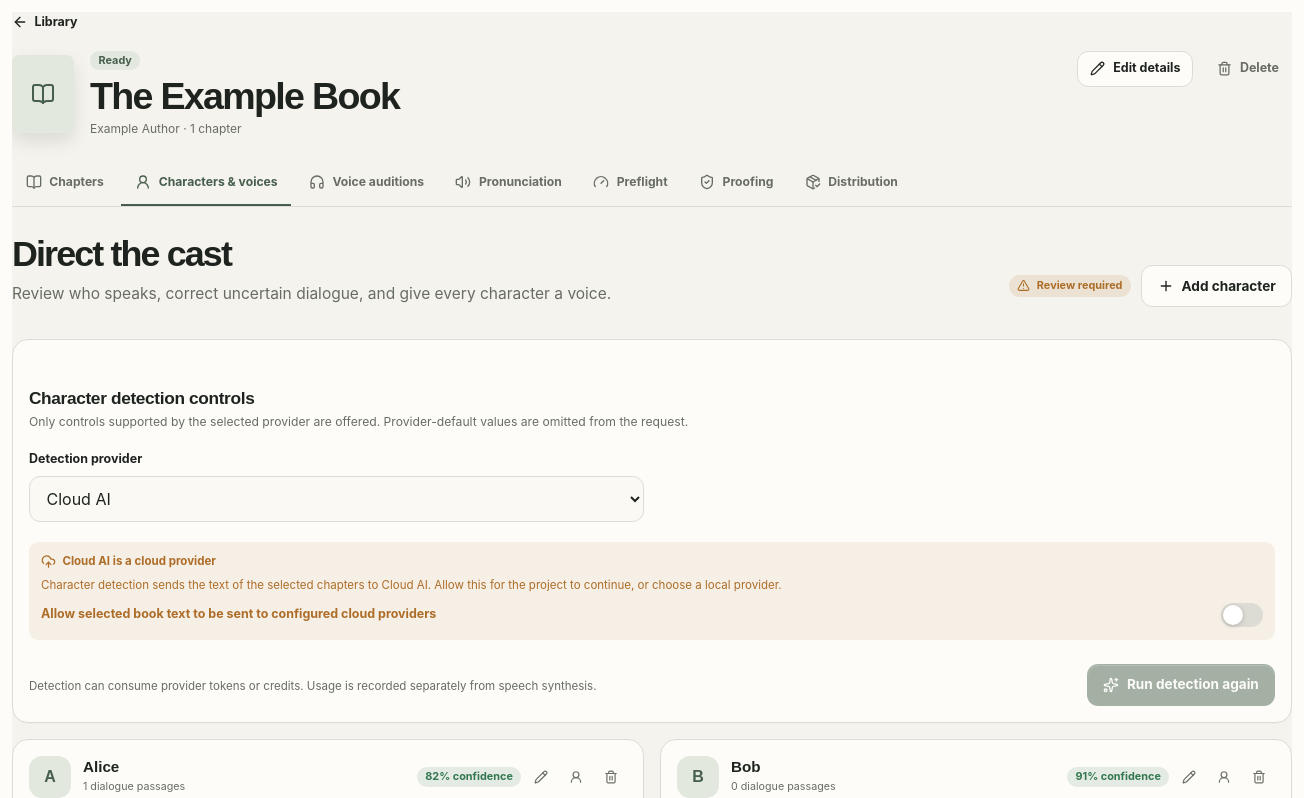
Test: character review › offers the missing cloud text permission where detection needs it
Expected: the text "Cloud AI is a cloud provider" is shown, x1=41 y1=554 x2=216 y2=568
Expected: the button "Run detection again" is disabled, x1=1087 y1=664 x2=1275 y2=706
Click the switch named "Allow selected book text".
click(1242, 615)  # box x1=1221 y1=603 x2=1263 y2=627
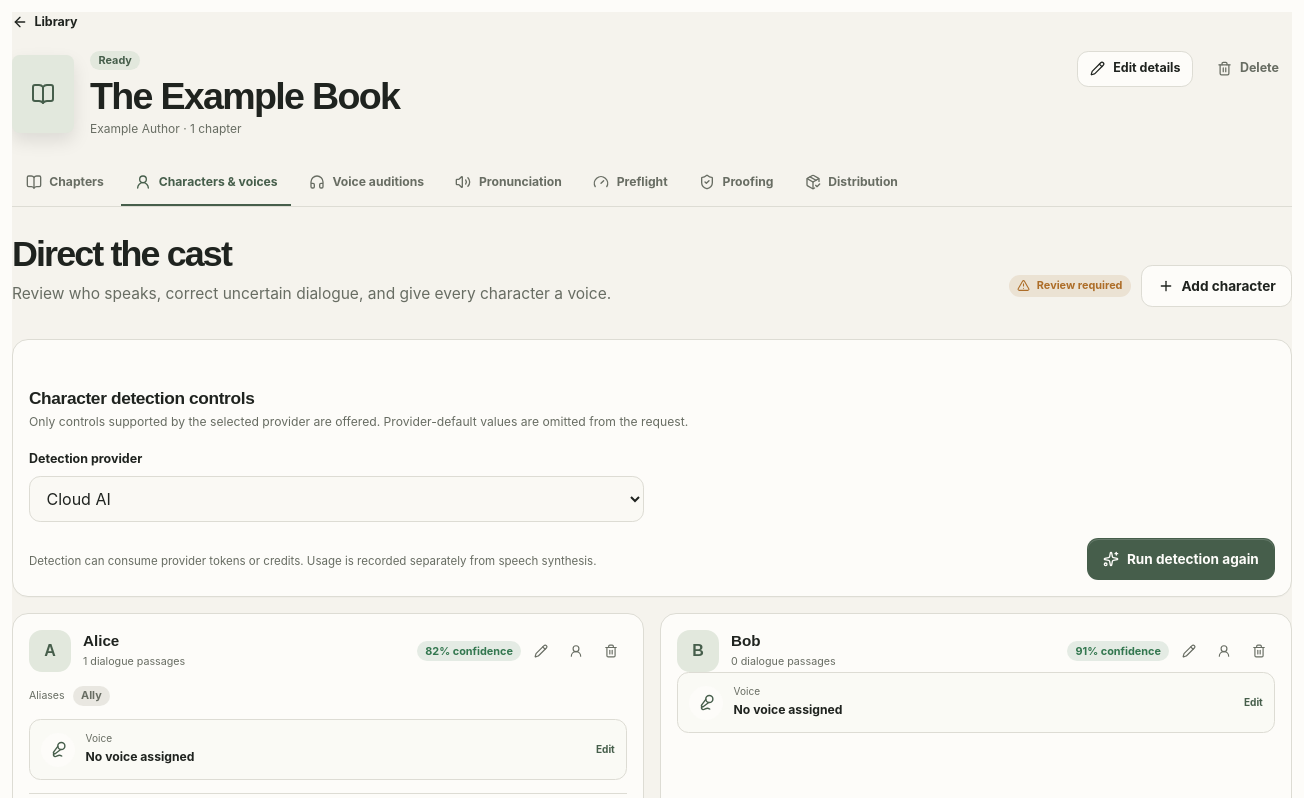
Result: the button "Run detection again" is enabled at x1=1087 y1=538 x2=1275 y2=580
